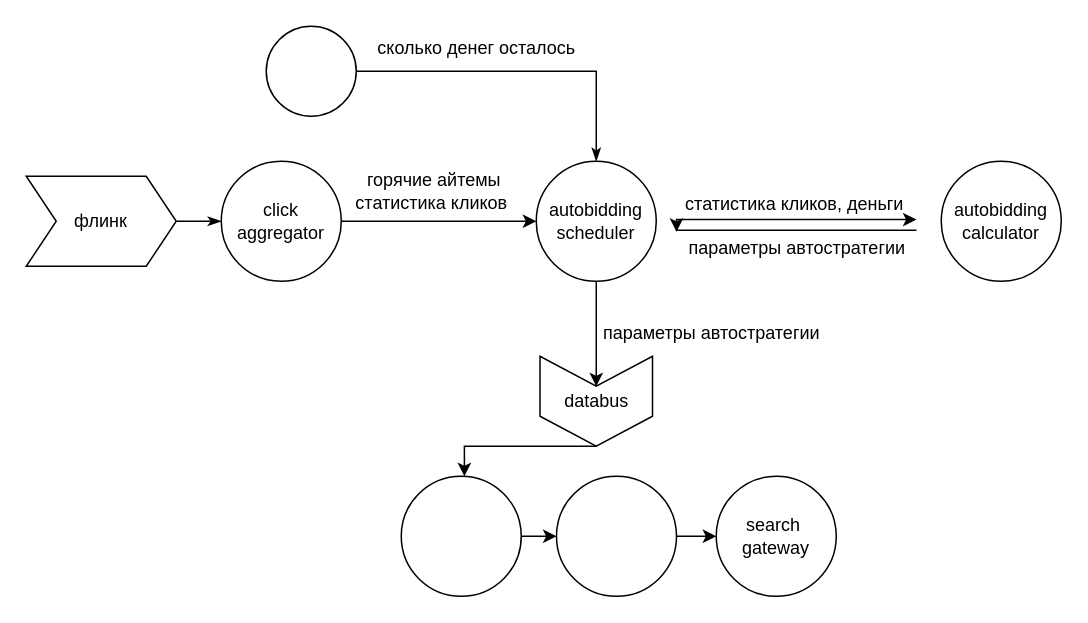
This 1088x623 diagram has some shape labels left out. Here are the shapes that lost their labels. From the top down, the centre of each, then its label:
At (310,70): "auction fastbiling".
At (460,535): "search items".
At (615,535): "sphinx".
